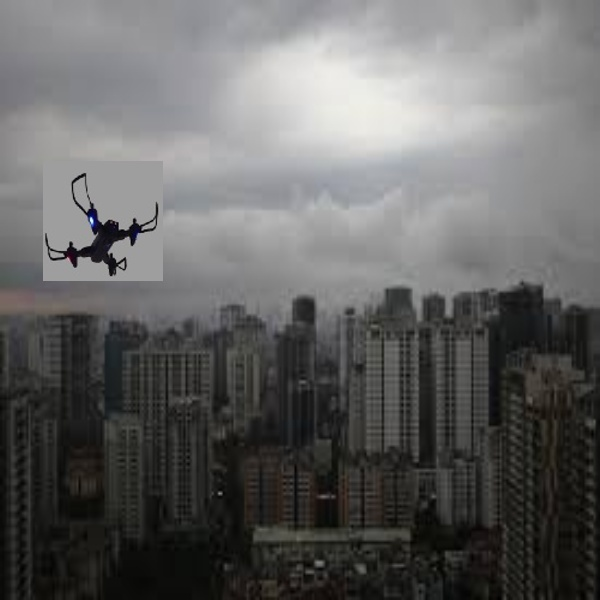drone: (40, 156, 165, 275)
